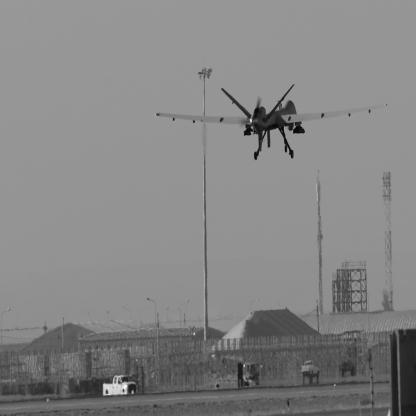MQ9: (156, 85, 389, 161)
